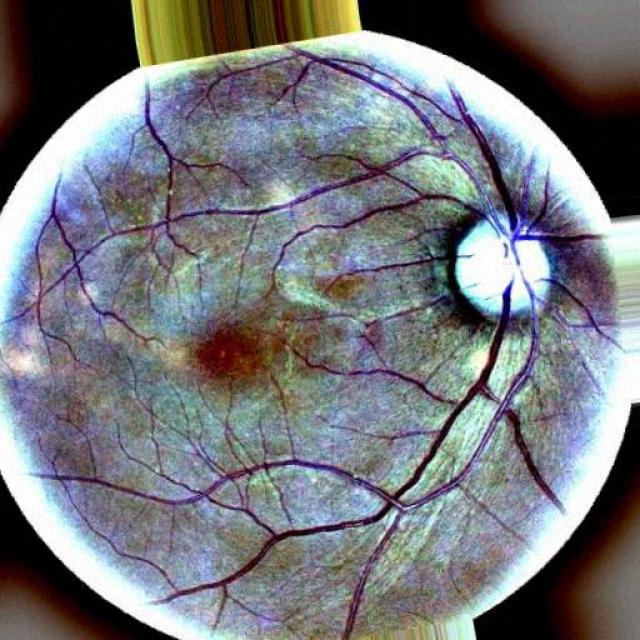Macula: (195, 328, 260, 375)
Optic Disk: (454, 212, 550, 315)
